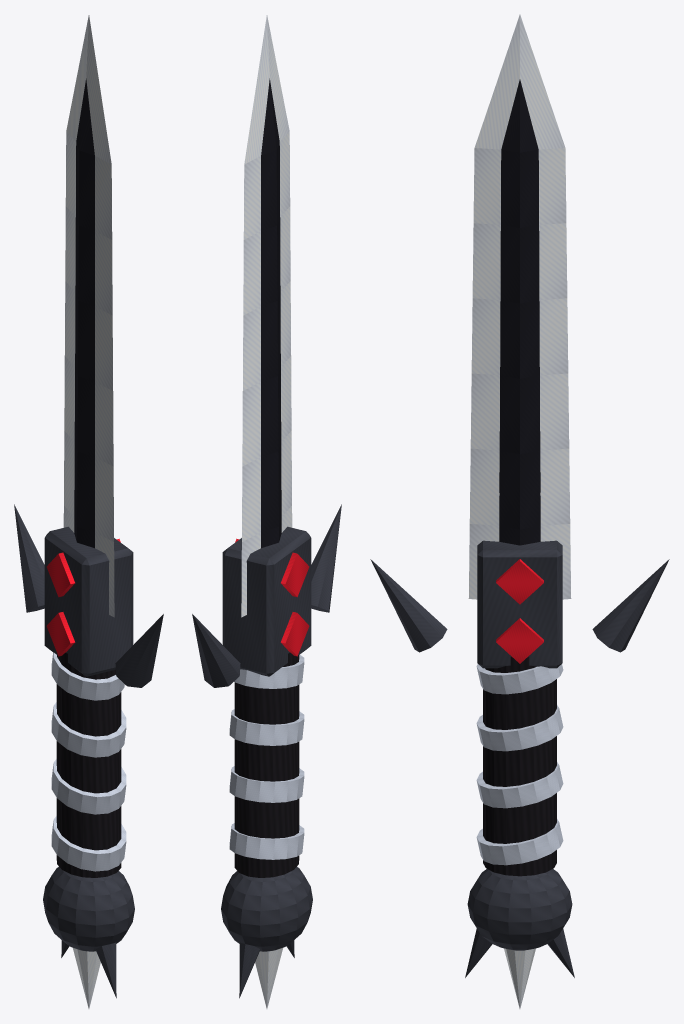
The model's file is Dagger.fbx.
3 renders of one model, left to right at view 1: azimuth 30°, elevation 25°; view 2: azimuth 150°, elevation 25°; view 3: azimuth 270°, elevation 25°, orthographic.
Visible parts, largest first — view 1: Dagger; view 2: Dagger; view 3: Dagger.
Boxes of the visible parts, x1,y1,x2,y2 form: Dagger: [14, 15, 163, 1008]; Dagger: [192, 15, 341, 1008]; Dagger: [370, 14, 669, 1008].
Bounding box in the file's own units: 30.11 × 386 × 105.
1 material, 1 textured.
